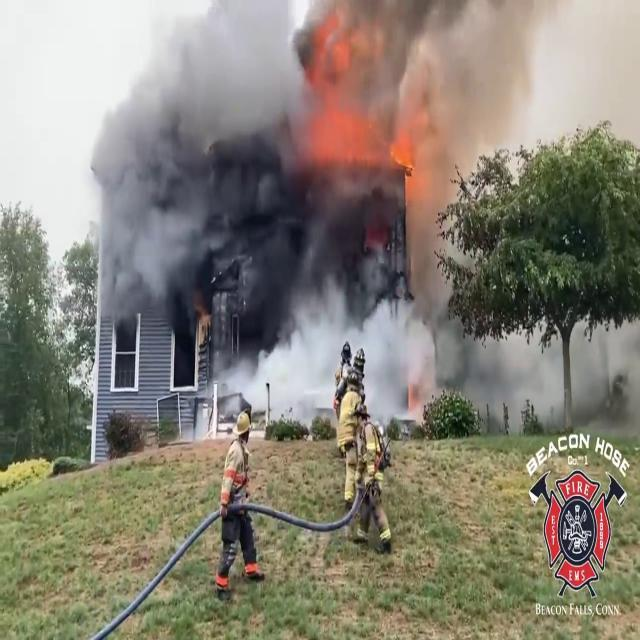Smoke: (82, 1, 360, 334), (308, 0, 530, 258)
